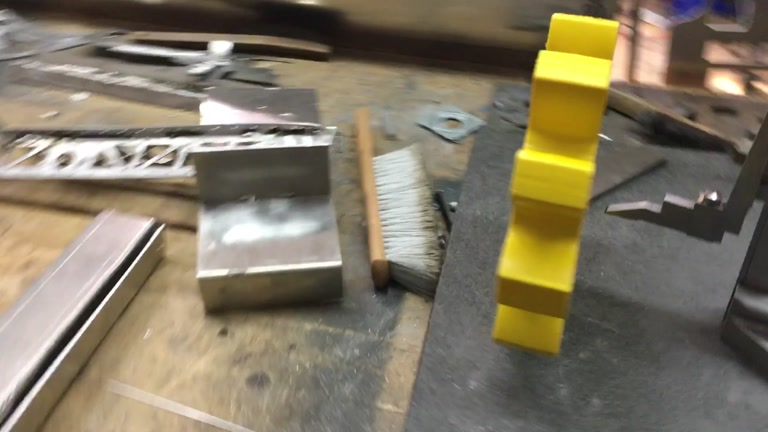gear: (490, 10, 619, 360)
